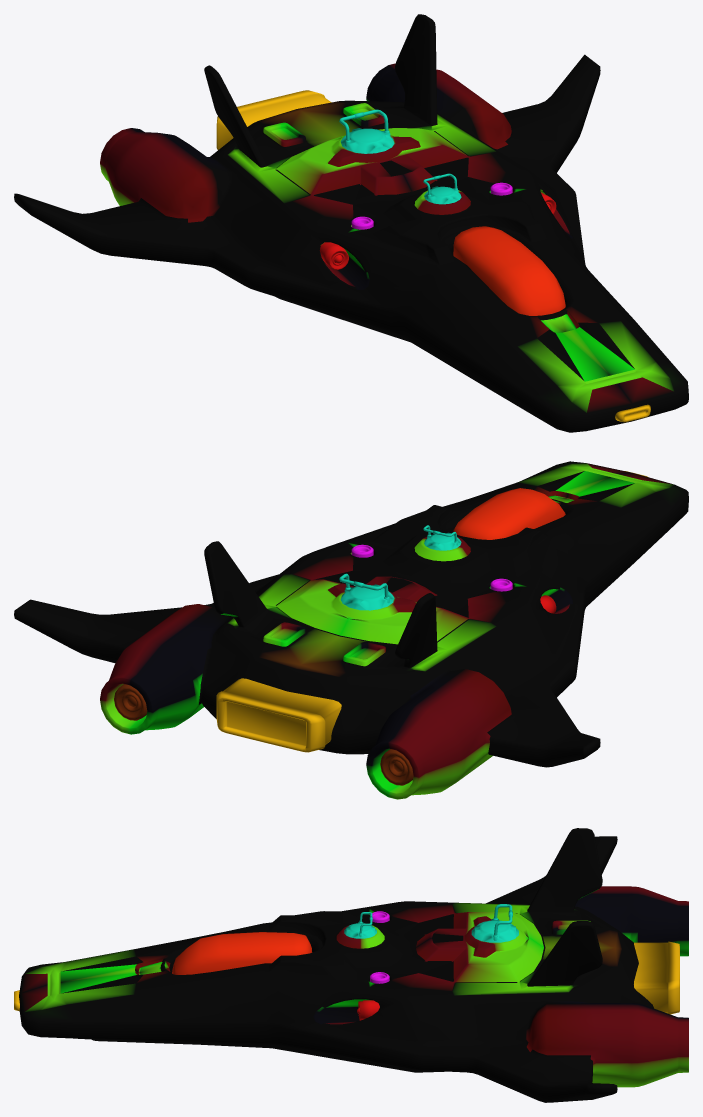
3 views of the same model, one above another, from view 1: azimuth 30°, elevation 25°; view 2: azimuth 150°, elevation 25°; view 3: azimuth 270°, elevation 25° (orthographic). The views are drawn at different scales.
Parts seen in each view (by area): view 1: body_frame_low, cockpit_low, radiator_back_low, latch_big_low, headlights_low, latch_small_low; view 2: body_frame_low, radiator_back_low, cockpit_low, jet_engines_low, latch_big_low, latch_small_low, top_hull_insets_low; view 3: body_frame_low, cockpit_low, radiator_back_low, latch_big_low, latch_small_low.
Boxes of the visible parts, <box> form: body_frame_low: <box>14,14,688,432</box>; cockpit_low: <box>453,226,565,315</box>; radiator_back_low: <box>216,90,331,149</box>; latch_big_low: <box>339,109,394,153</box>; headlights_low: <box>319,192,556,269</box>; latch_small_low: <box>423,173,461,204</box>; body_frame_low: <box>14,461,688,799</box>; radiator_back_low: <box>216,678,341,752</box>; cockpit_low: <box>453,488,565,539</box>; jet_engines_low: <box>114,684,413,785</box>; latch_big_low: <box>339,573,394,610</box>; latch_small_low: <box>423,525,461,550</box>; top_hull_insets_low: <box>351,544,512,591</box>; body_frame_low: <box>19,828,688,1102</box>; cockpit_low: <box>172,932,312,974</box>; radiator_back_low: <box>634,941,679,1014</box>; latch_big_low: <box>471,904,518,942</box>; latch_small_low: <box>344,912,376,938</box>.
Size of the model in its own units: 222 by 63.29 by 254.
